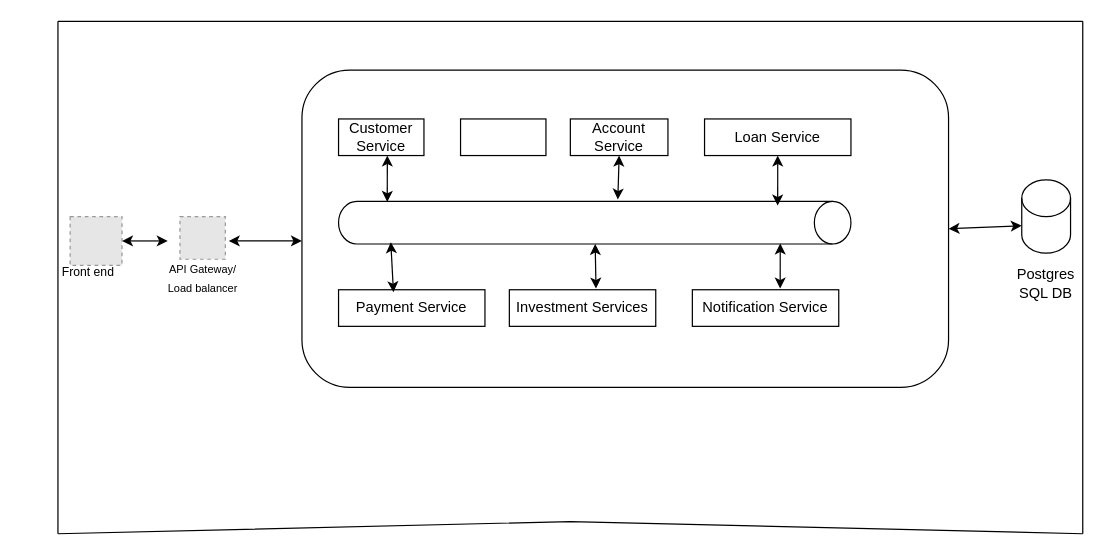
Image size: 1105x556. Some labels were removed from this diagram. Grey dashed boxes stand in for pictures. The shapes that lost their labels are listed below. From the top down, each one's centre as x and y in pixels, then its label:
point (502, 137): User Service
point (594, 222): Kafka
point (1046, 216): DB
